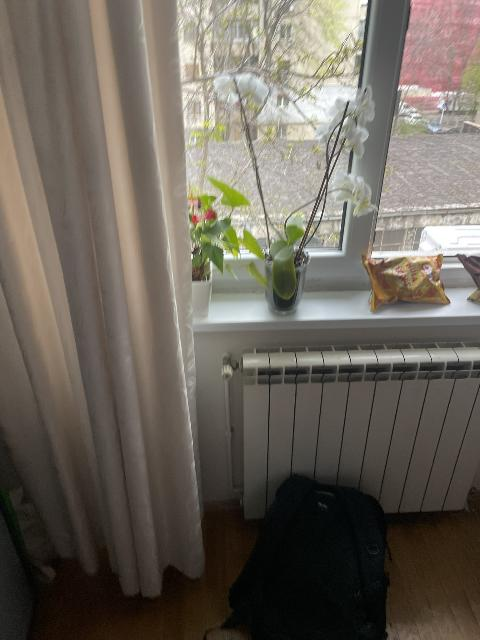Chio Hula Hoops Cheese 70g: (366, 252, 448, 310)
